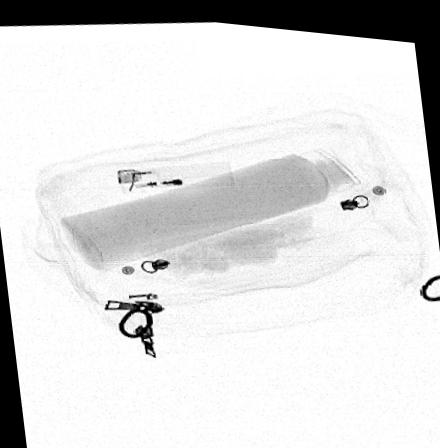Lighter: (115, 155, 233, 189)
